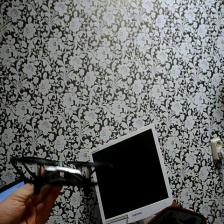drone: (7, 146, 99, 200)
